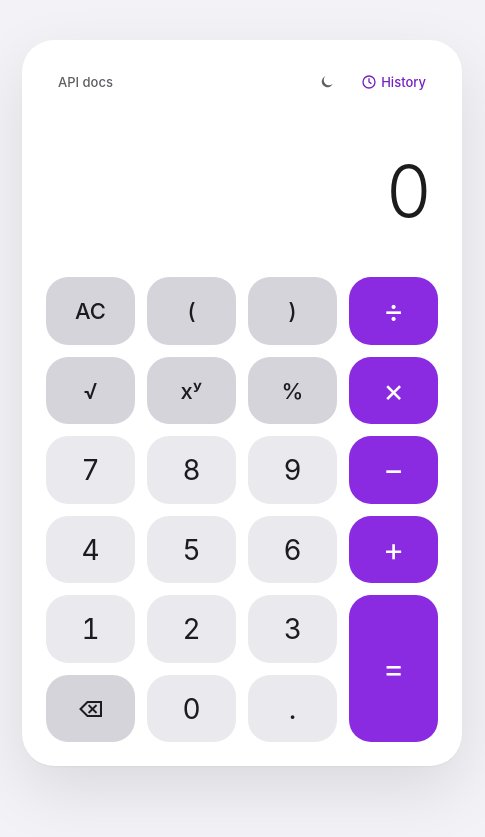
Test: Calculator › shows a banner when the API is unreachable and recovers on retry
The image size is (485, 837).
Click the button "1" at (90, 629), box [46,596,135,663]
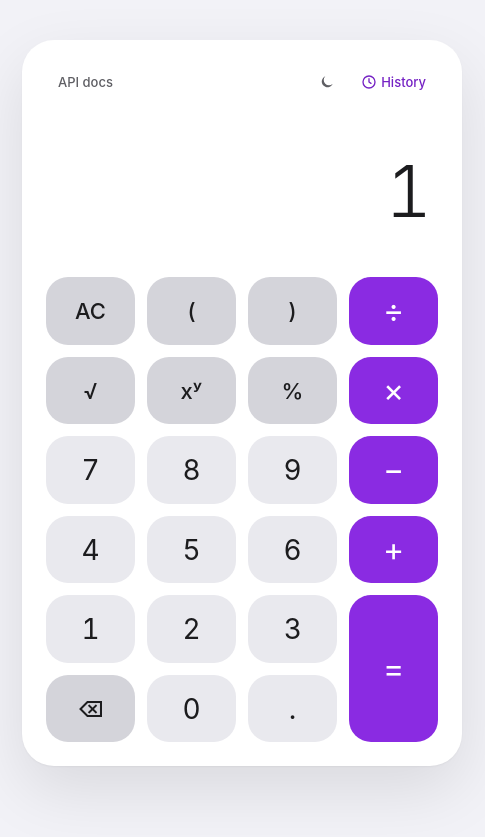
Click the button named "add" at (394, 550), box [349,516,438,584]
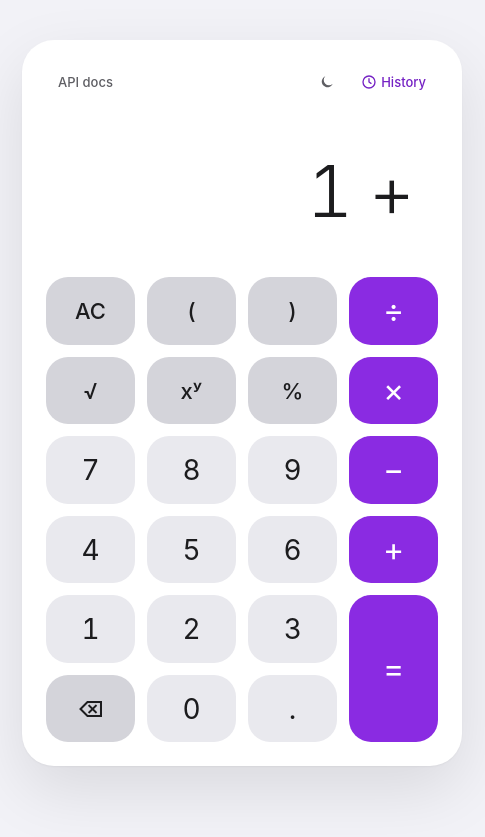
Click the button "2" at (192, 629), box [147,596,236,663]
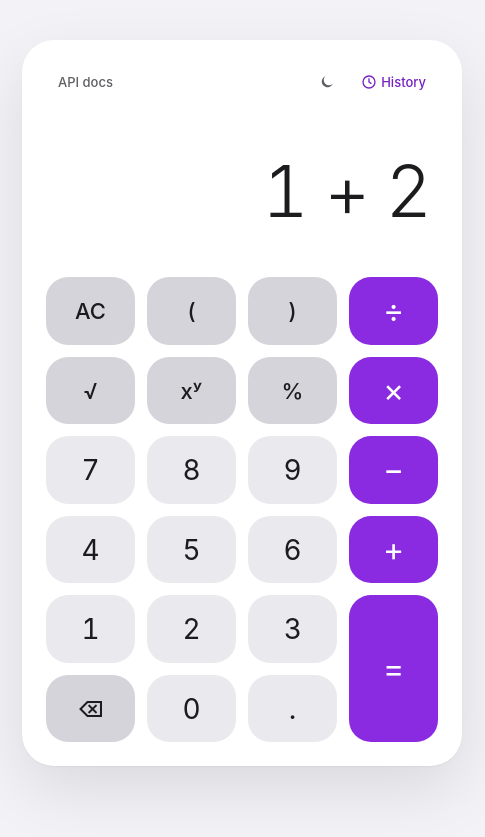
Click the button named "equals" at (394, 669), box [349,596,438,742]
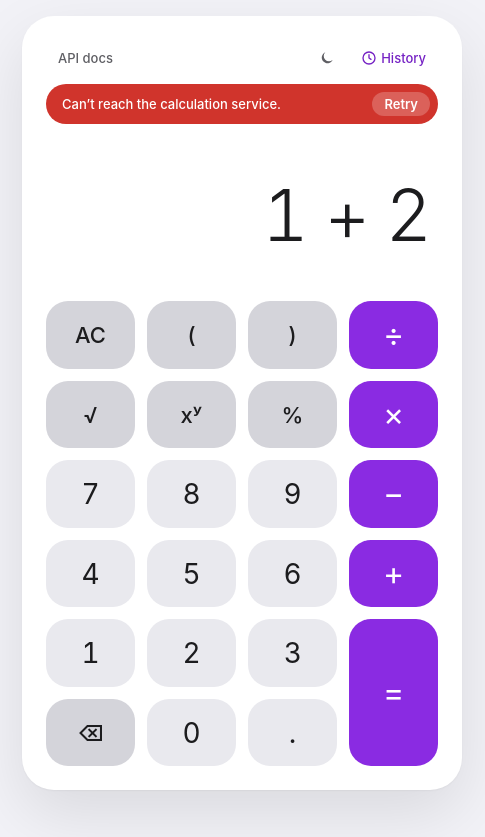
Click the button "Retry" at (401, 104), box [372,92,430,116]
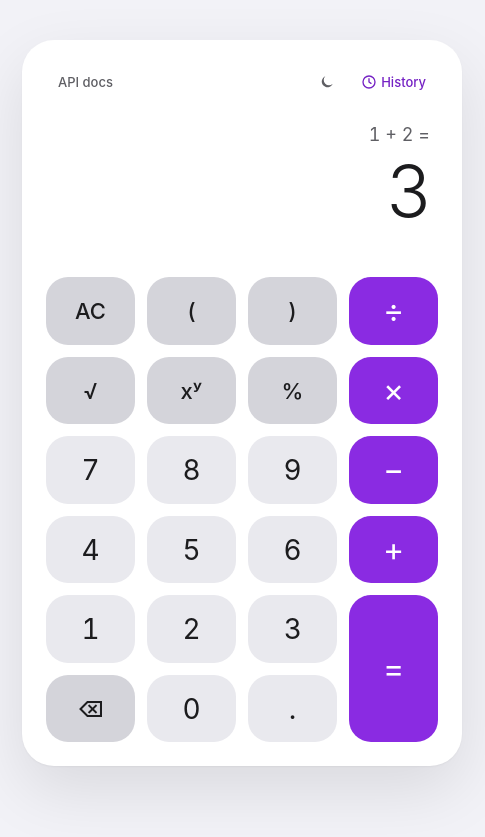
Expected: the element showing "3" is shown, [386,153,430,228]
Expected: the message "Can’t reach the calculation service. Retry" is gone
